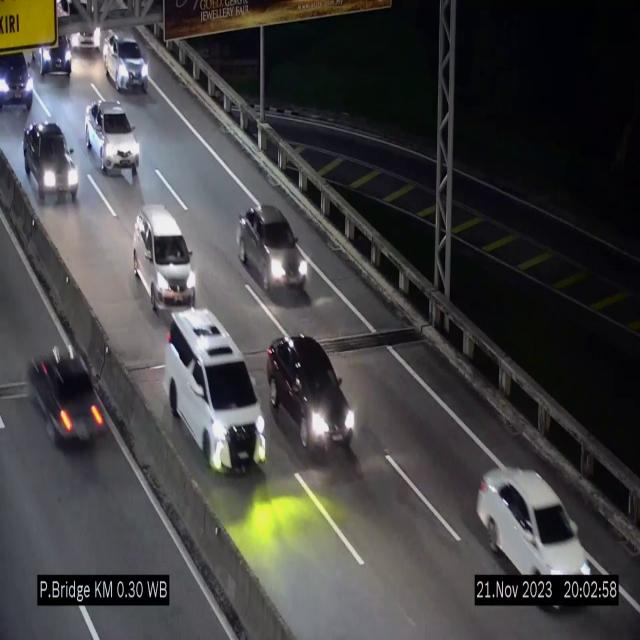Car: (166, 308, 266, 472), (476, 462, 594, 576), (264, 333, 358, 457), (233, 196, 309, 296), (132, 203, 195, 313), (24, 121, 84, 209), (86, 99, 140, 183), (104, 29, 149, 92)
